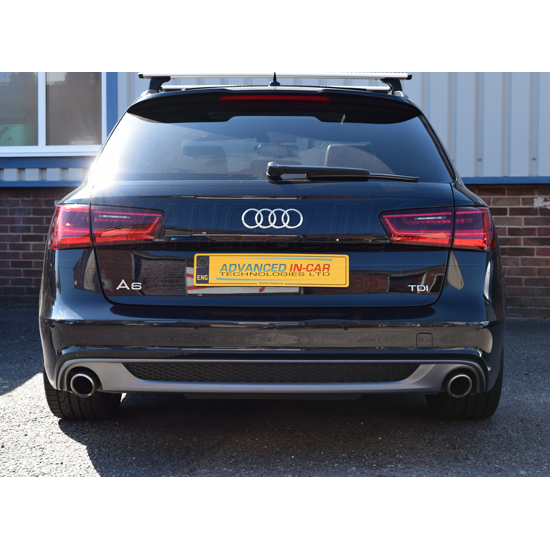audi: (239, 202, 306, 233)
